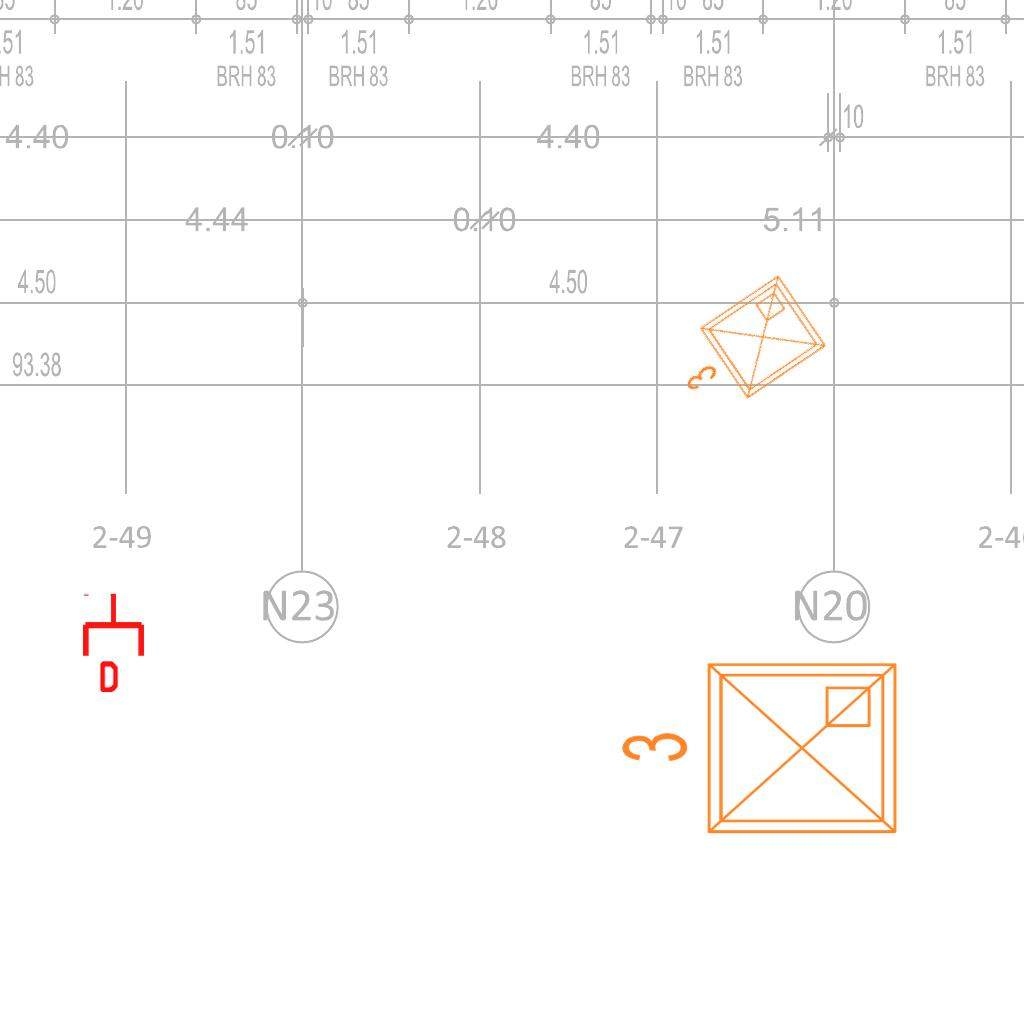Datenanschluss_einfach: (79, 592, 148, 692)
Einbaudownlights_LED_Konferenzraeume: (611, 648, 911, 856), (655, 264, 839, 436)
